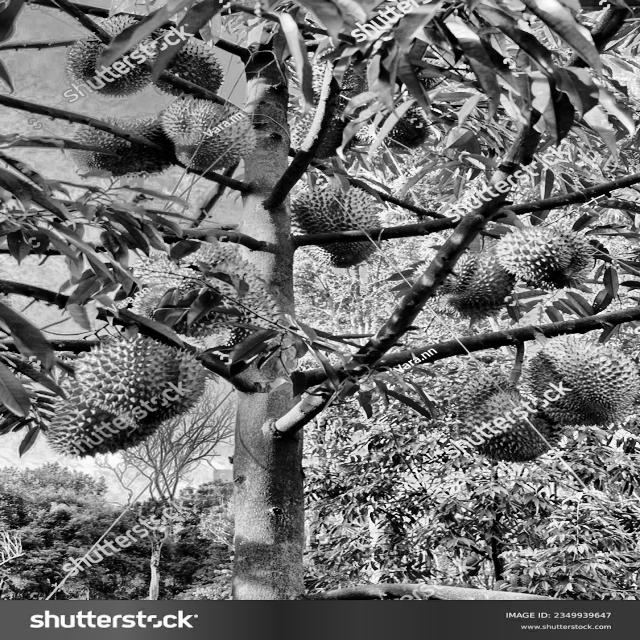arvore: (202, 3, 333, 588)
